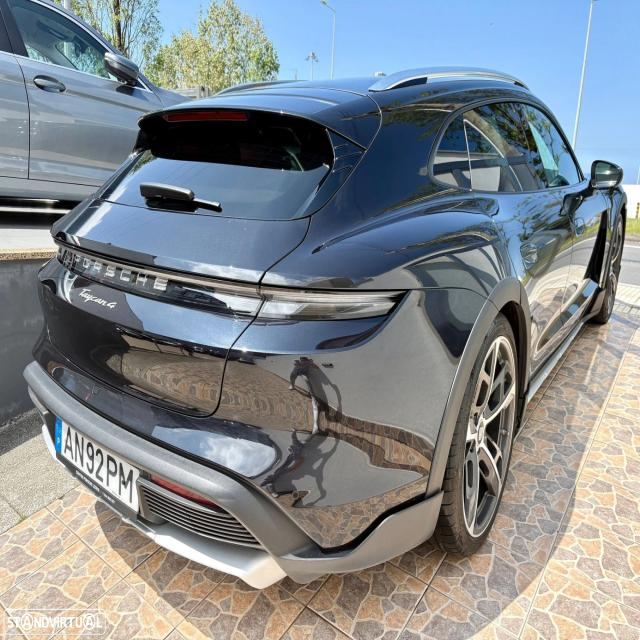portuguese-license-plates: (55, 416, 140, 521)
